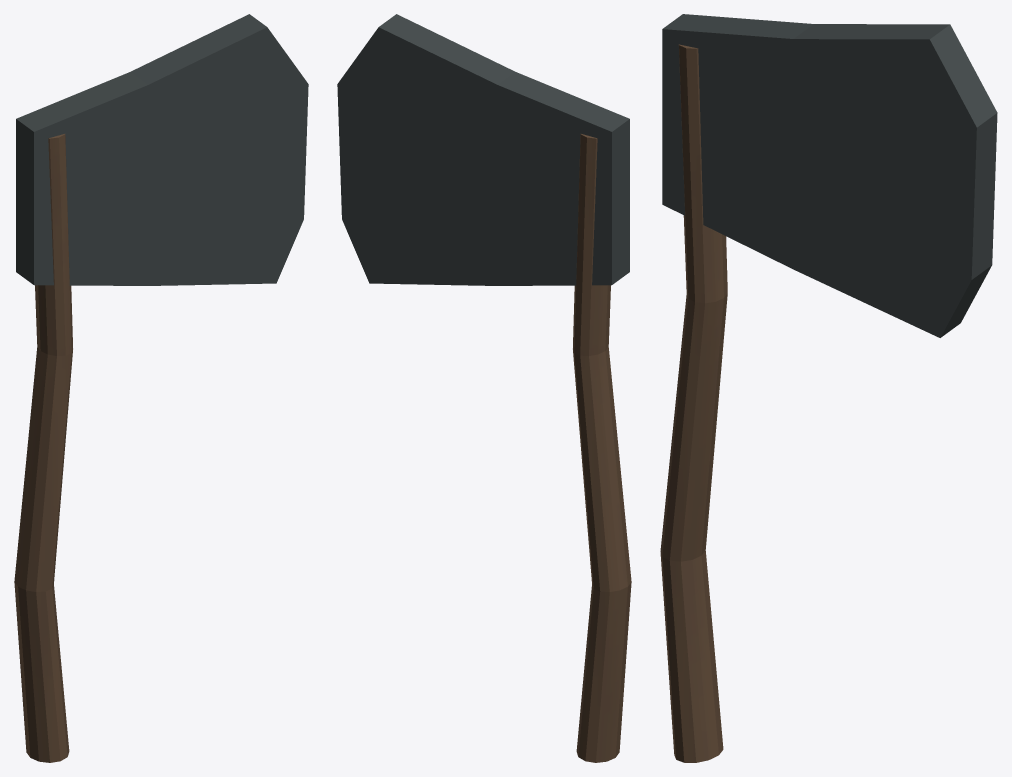
The model's file is PR_Axe.glb.
The picture shows the model from 3 angles, left to right: view 1: azimuth 30°, elevation 25°; view 2: azimuth 150°, elevation 25°; view 3: azimuth 330°, elevation 25°; orthographic projection. The views are drawn at different scales.
Parts seen in each view (by area): view 1: PR_Axe; view 2: PR_Axe; view 3: PR_Axe.
Part boxes in pixels (bbox=[...]): PR_Axe: bbox=[14, 14, 308, 762]; PR_Axe: bbox=[337, 14, 631, 762]; PR_Axe: bbox=[660, 14, 997, 762].
Bounding box in the file's own units: 0.3076 × 0.7116 × 0.048.
Materials: 2 (1 with a texture image).
